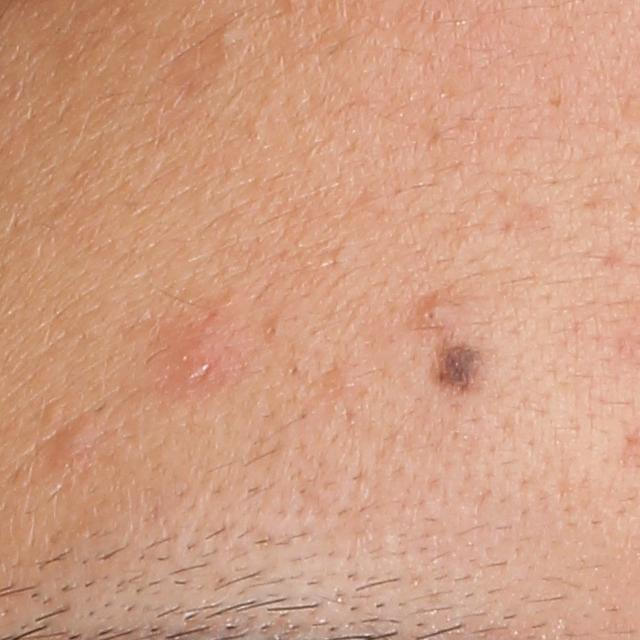comedo: (213, 26, 241, 53)
nevus: (425, 328, 493, 390)
papule: (54, 418, 99, 455)
